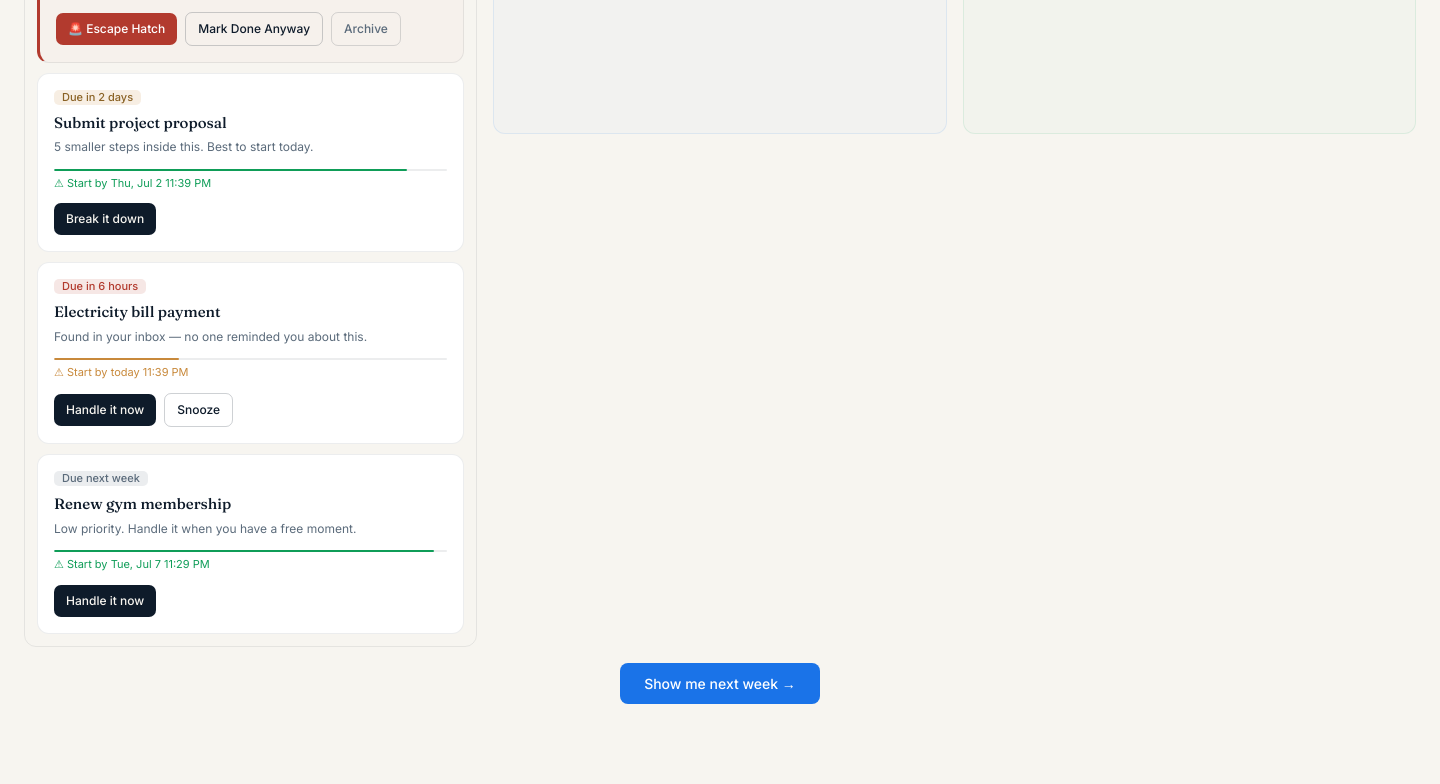
Scenario: Module 11: localStorage Persistence › Moving task to In Progress shows In progress badge
(page scrolled)
Step 1. Click the button "Handle it now" below "⚠ Start by today 11:39 PM" → (105, 410), box [54,394,156,426]
(page scrolled)
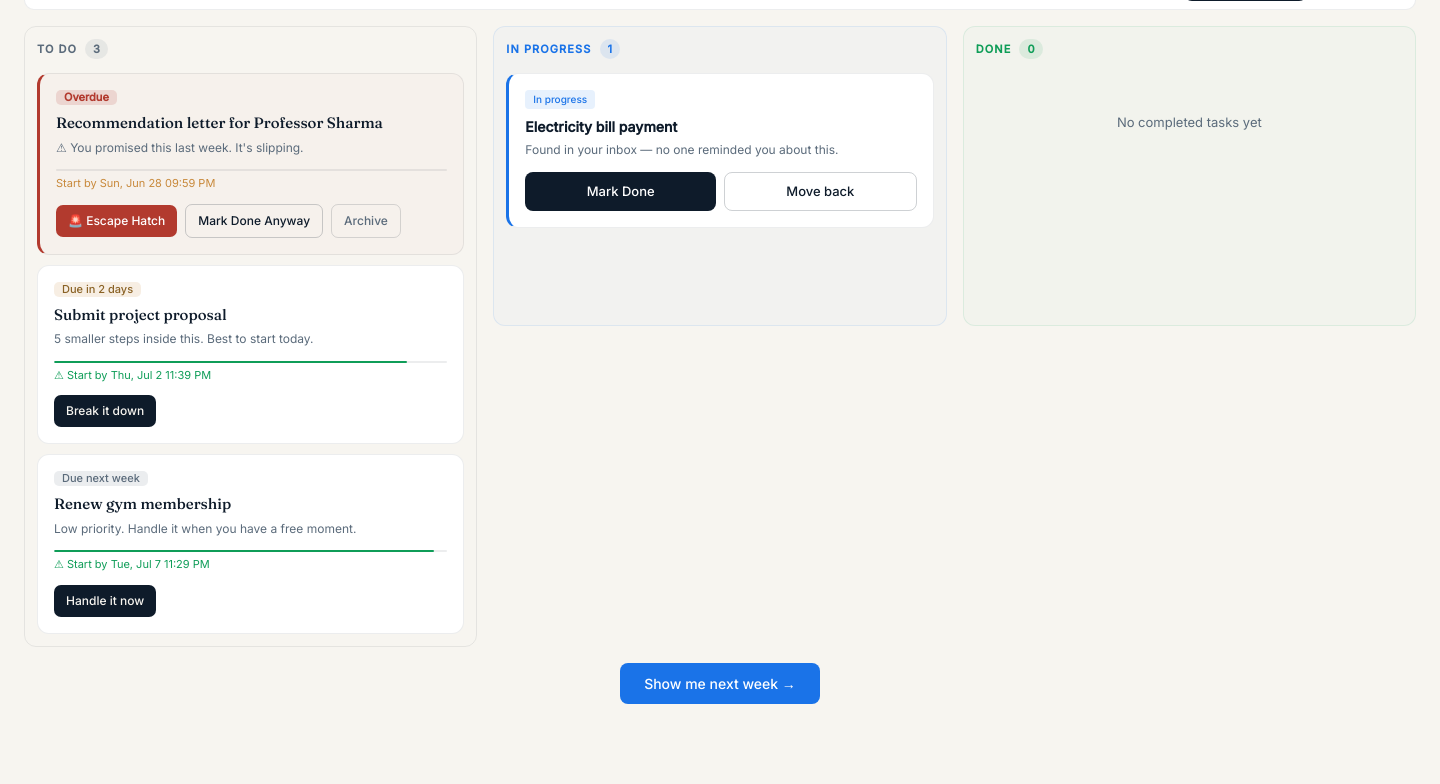
Expected: the text "In progress" is shown, [525,90,595,109]
